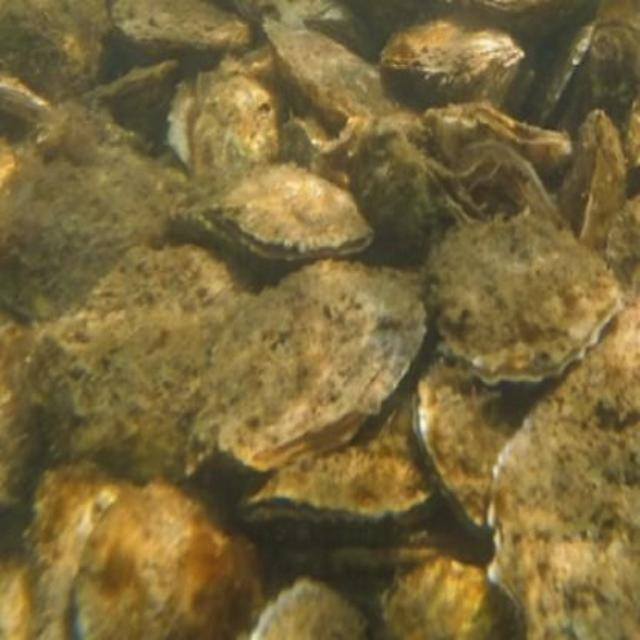Oyster-Closed: (36, 247, 259, 485), (488, 300, 638, 638), (193, 259, 420, 469), (431, 209, 625, 397), (0, 111, 176, 318), (78, 478, 266, 638), (261, 19, 425, 128), (388, 24, 521, 113), (190, 67, 287, 188), (378, 554, 507, 638), (242, 580, 373, 638), (109, 0, 239, 57)
Oyster-Open: (242, 374, 435, 533), (411, 353, 541, 540), (187, 155, 373, 273), (430, 99, 574, 167), (416, 166, 489, 237)
